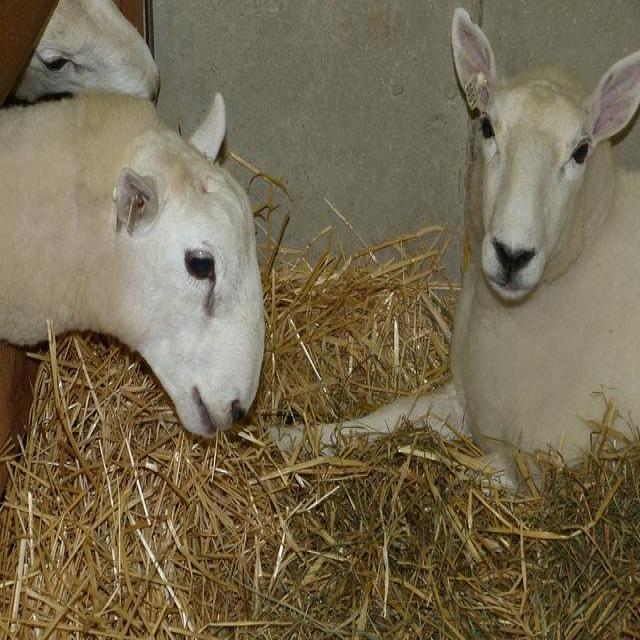Sheep: (268, 9, 639, 508), (0, 91, 264, 440), (14, 0, 162, 104)
